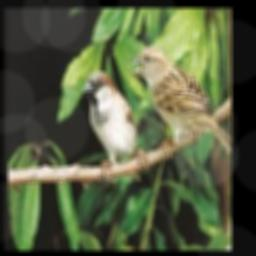Sparrow: (128, 46, 231, 159), (81, 70, 148, 180)
